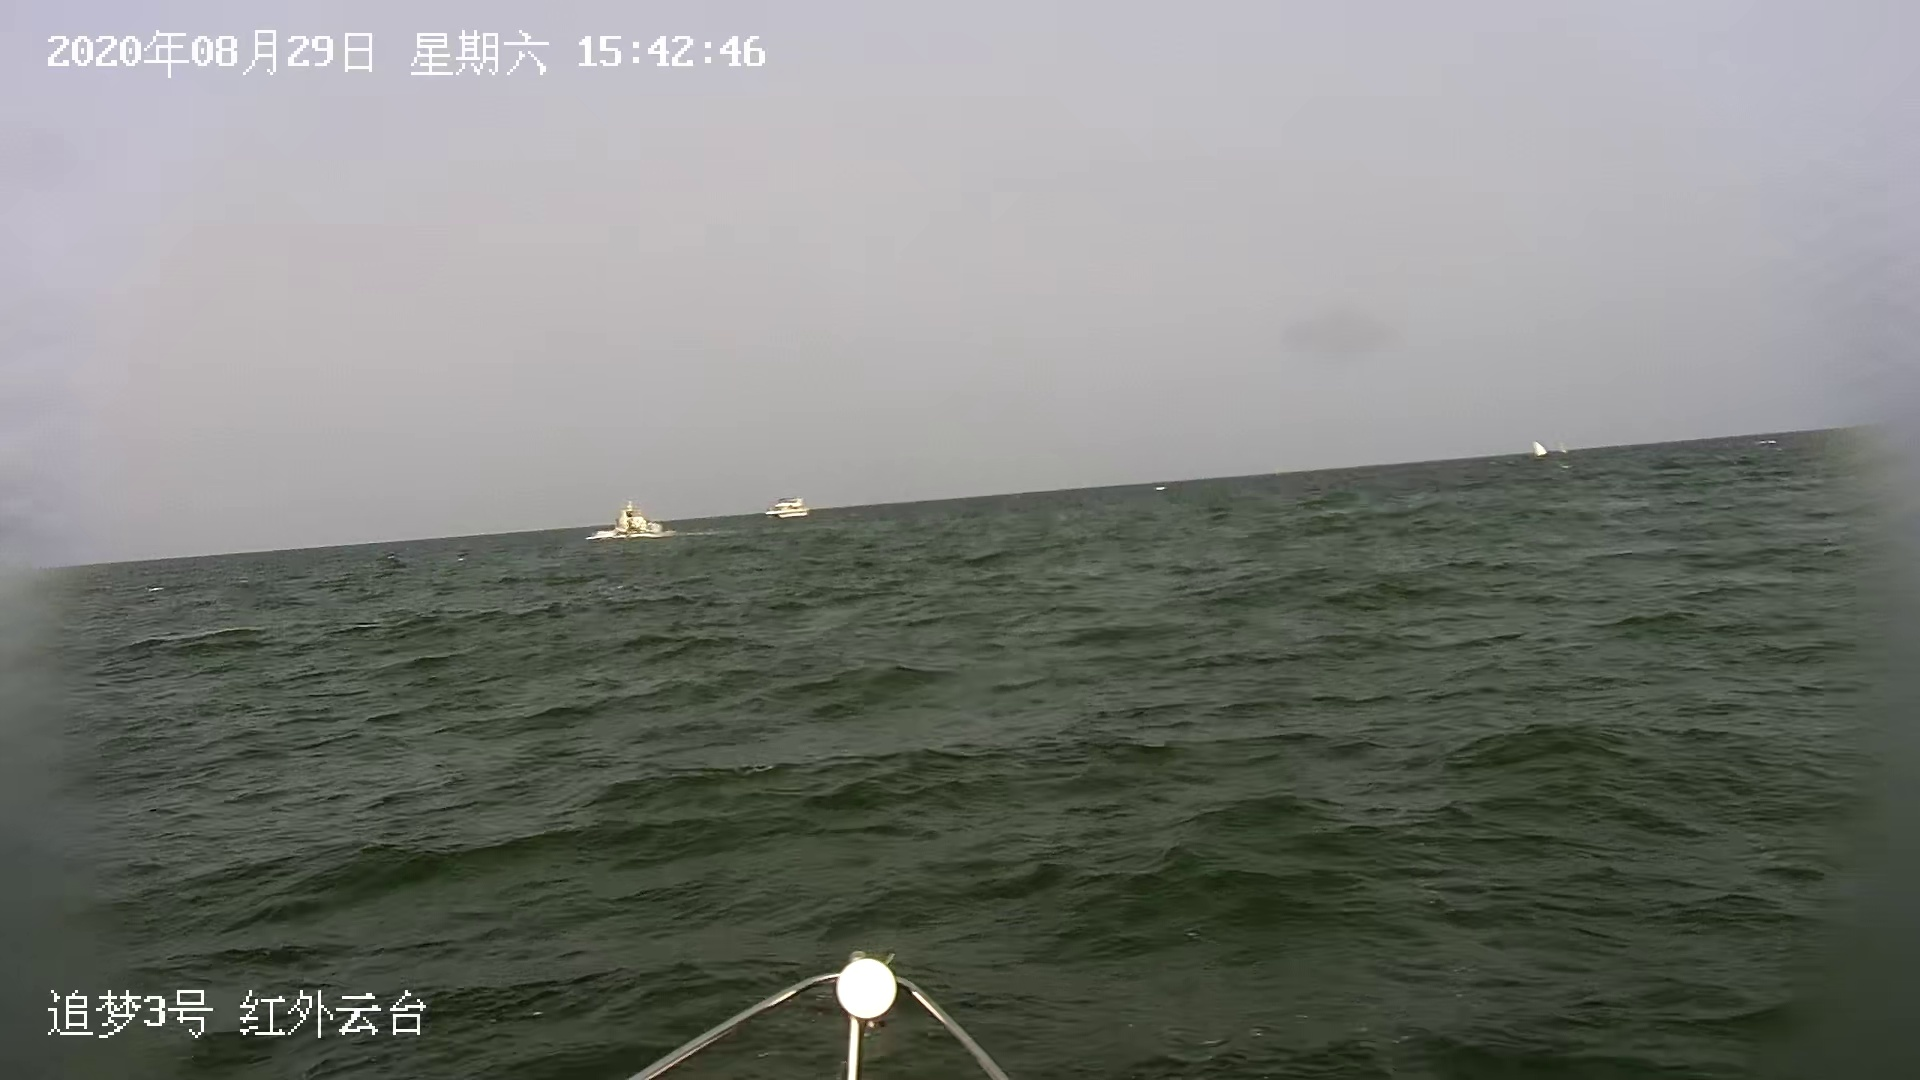barrier: (582, 498, 682, 542), (764, 497, 814, 521), (1530, 439, 1552, 458)
